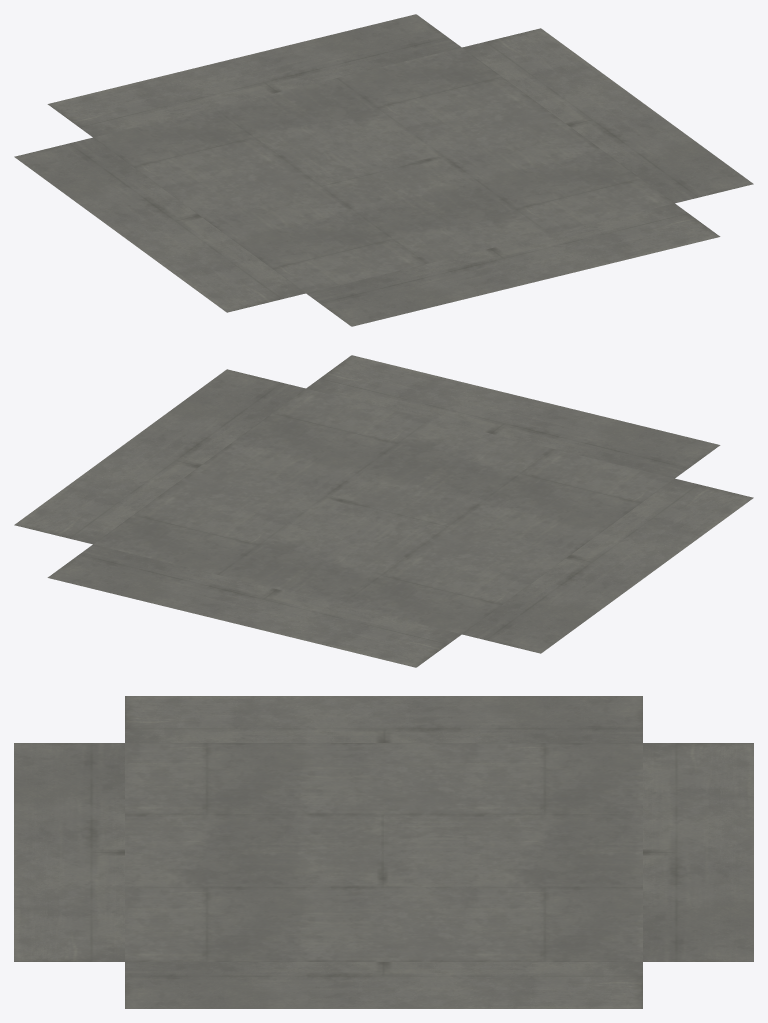
Rendered from FloorMiddle.fbx.
3 views of the same model, one above another, from view 1: azimuth 30°, elevation 25°; view 2: azimuth 150°, elevation 25°; view 3: azimuth 270°, elevation 25° (orthographic). The views are drawn at different scales.
Parts seen in each view (by area): view 1: FloorMiddle; view 2: FloorMiddle; view 3: FloorMiddle.
Part boxes in pixels (left/top/right/bottom): FloorMiddle: left=14, top=14, right=753, bottom=326; FloorMiddle: left=14, top=355, right=753, bottom=667; FloorMiddle: left=14, top=696, right=753, bottom=1008.
Bounding box in the file's own units: 10 × 0 × 10.
